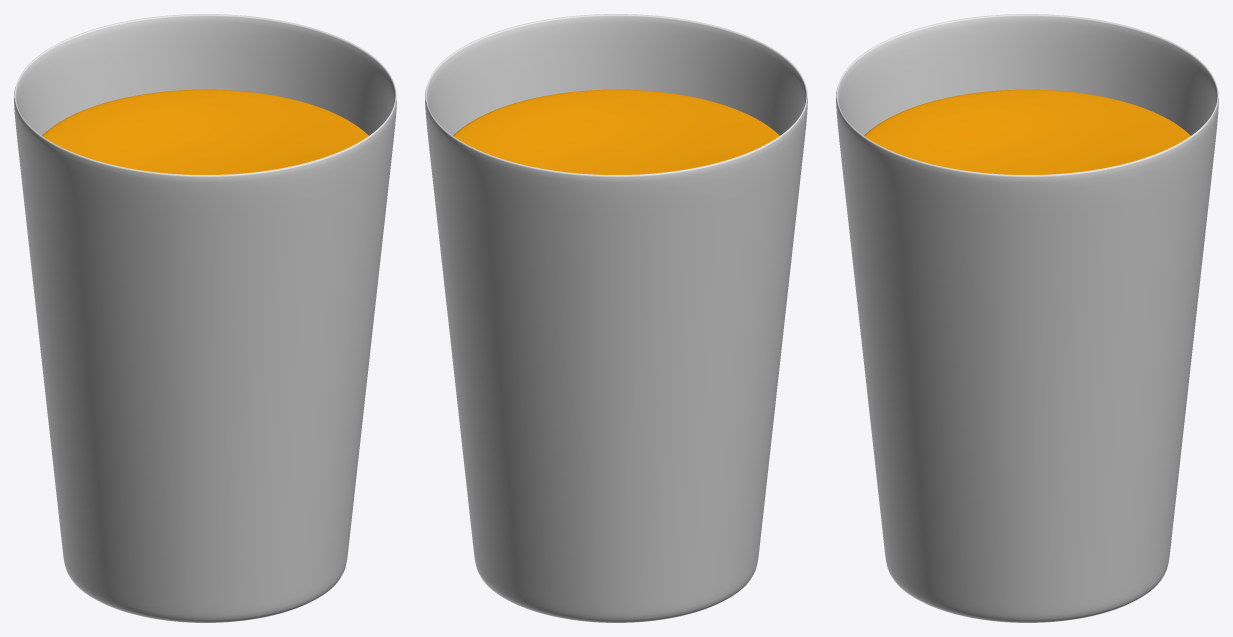
Rendered from juice.fbx.
3 renders of one model, left to right at view 1: azimuth 30°, elevation 25°; view 2: azimuth 150°, elevation 25°; view 3: azimuth 270°, elevation 25°, orthographic.
Visible parts, largest first — view 1: Orange juice, Circle.002; view 2: Orange juice, Circle.002; view 3: Orange juice, Circle.002.
Part boxes in pixels (box(x1,y1,x2,y2)): Orange juice: box(14, 14, 396, 622); Circle.002: box(42, 89, 368, 174); Orange juice: box(425, 14, 807, 622); Circle.002: box(453, 89, 779, 174); Orange juice: box(836, 14, 1218, 622); Circle.002: box(864, 89, 1190, 174).
Bounding box in the file's own units: 8.06 × 10.98 × 8.06.
